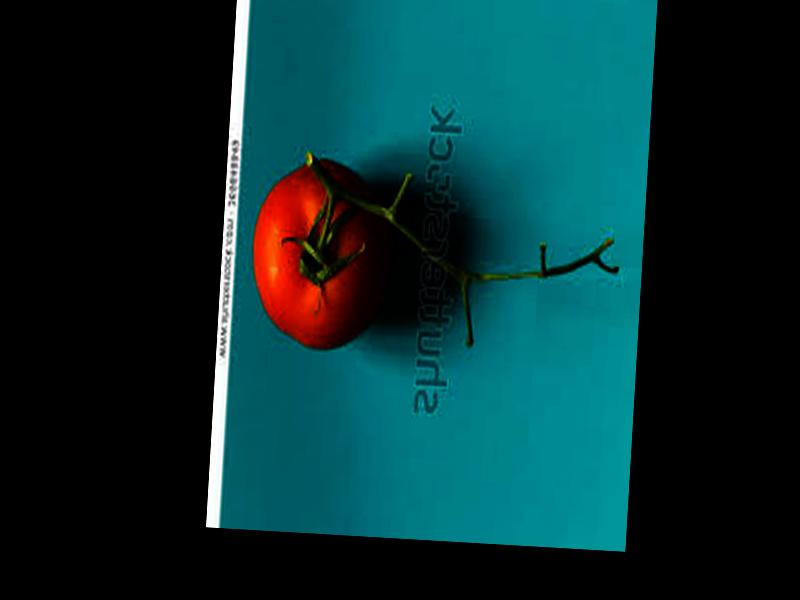Tomato: (249, 154, 394, 352)
